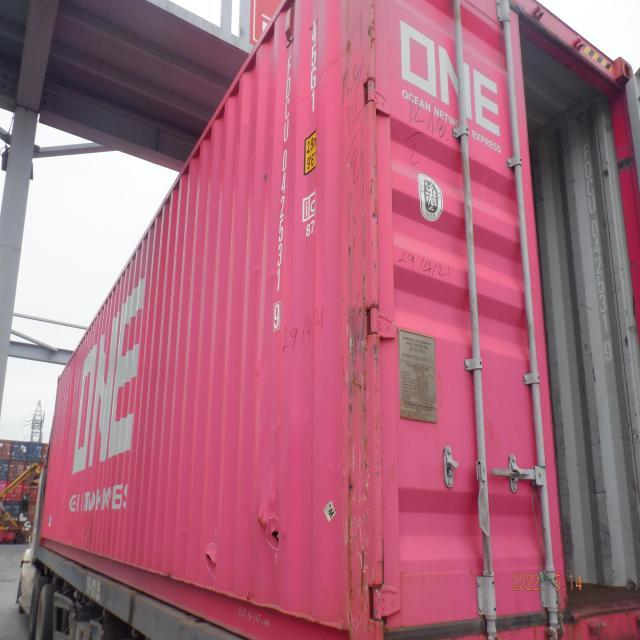hole: (271, 528, 283, 545)
